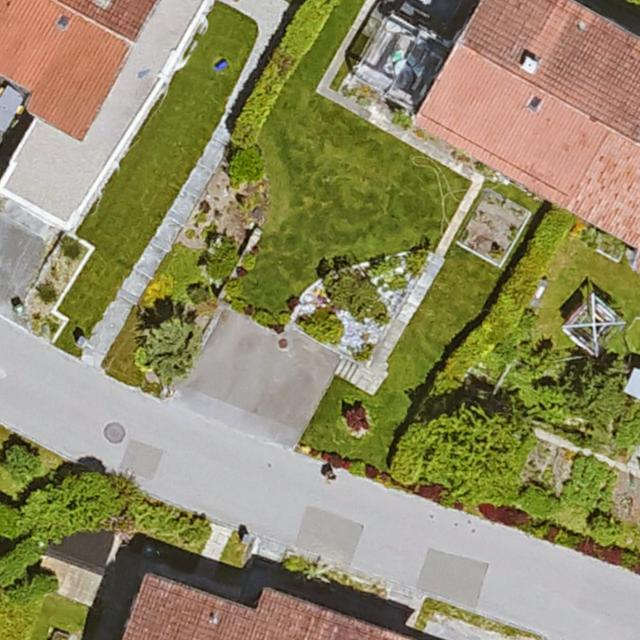tree: (419, 403, 533, 499), (572, 355, 632, 430), (134, 320, 205, 379), (58, 473, 118, 533), (20, 487, 72, 541), (524, 350, 555, 374)
